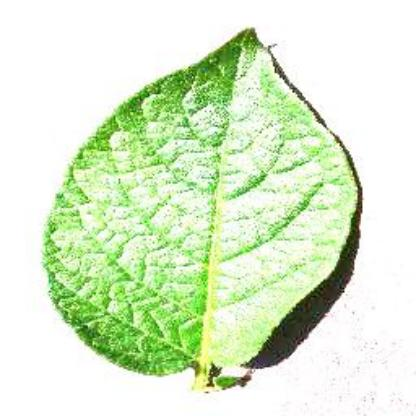Healthy-plant: (40, 16, 362, 396)
